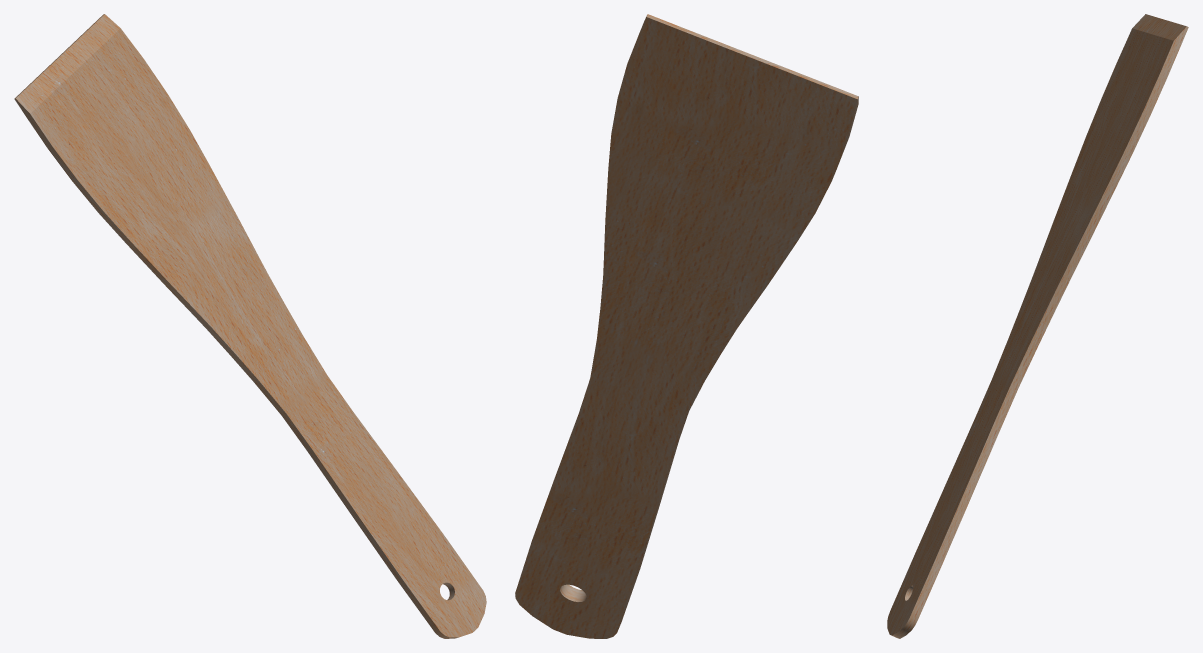
Rendered from cc0_-_wooden_spatula.glb.
3 views of the same model, side by side, from view 1: azimuth 30°, elevation 25°; view 2: azimuth 150°, elevation 25°; view 3: azimuth 270°, elevation 25° (orthographic). The views are drawn at different scales.
Visible parts, largest first — view 1: WoodenSpatula; view 2: WoodenSpatula; view 3: WoodenSpatula.
Part boxes in pixels (x1,y1,x2,y2): WoodenSpatula: [14, 14, 486, 638]; WoodenSpatula: [515, 14, 858, 638]; WoodenSpatula: [887, 14, 1188, 638].
Size of the model in its own units: 0.1644 by 0.2555 by 0.1348.
Materials: 1 (1 with a texture image).
